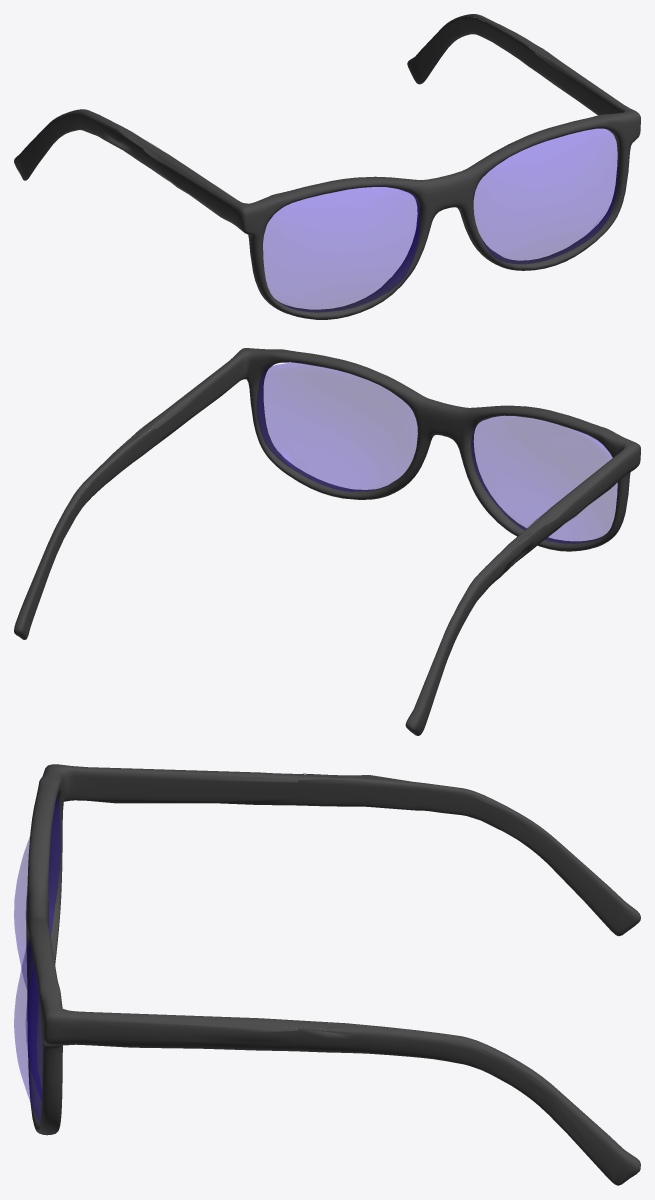
Rendered from Glasses_3.glb.
3 views of the same model, one above another, from view 1: azimuth 30°, elevation 25°; view 2: azimuth 150°, elevation 25°; view 3: azimuth 270°, elevation 25° (orthographic). The views are drawn at different scales.
Visible parts, largest first — view 1: lens, glasses; view 2: lens, glasses; view 3: glasses, lens.
Boxes of the visible parts, x1,y1,x2,y2 form: lens: [263, 129, 617, 312]; glasses: [14, 14, 640, 319]; lens: [257, 363, 617, 543]; glasses: [14, 348, 640, 735]; glasses: [26, 764, 640, 1185]; lens: [14, 798, 60, 1121].
Size of the model in its own units: 2.12 by 0.6987 by 2.19.
